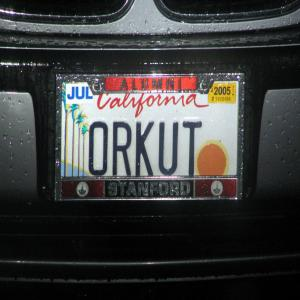Vehicle-registration-plate: (55, 73, 246, 202)
